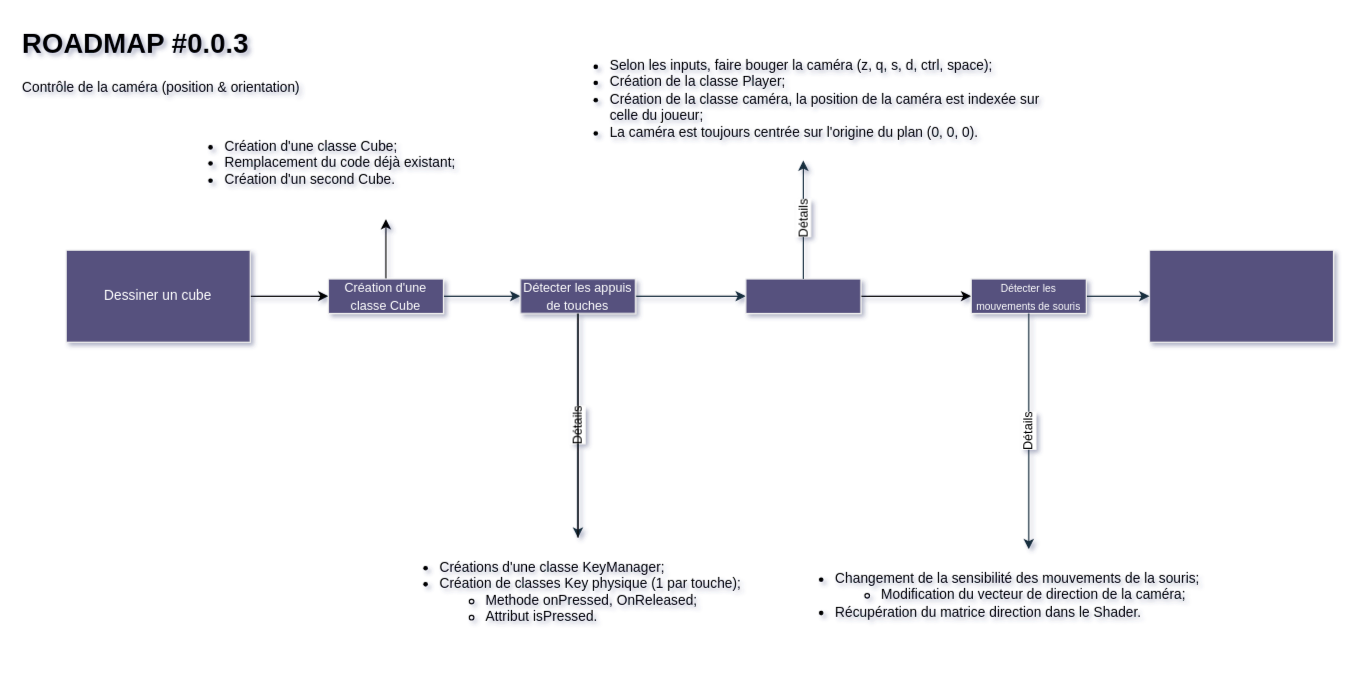
This 1360x682 diagram has some shape labels left out. Here are the shapes that lost their labels. From the top down, the centre of each, then its label:
(x=803, y=295): Déplacer la caméra
(x=1240, y=295): Contrôler la caméra
